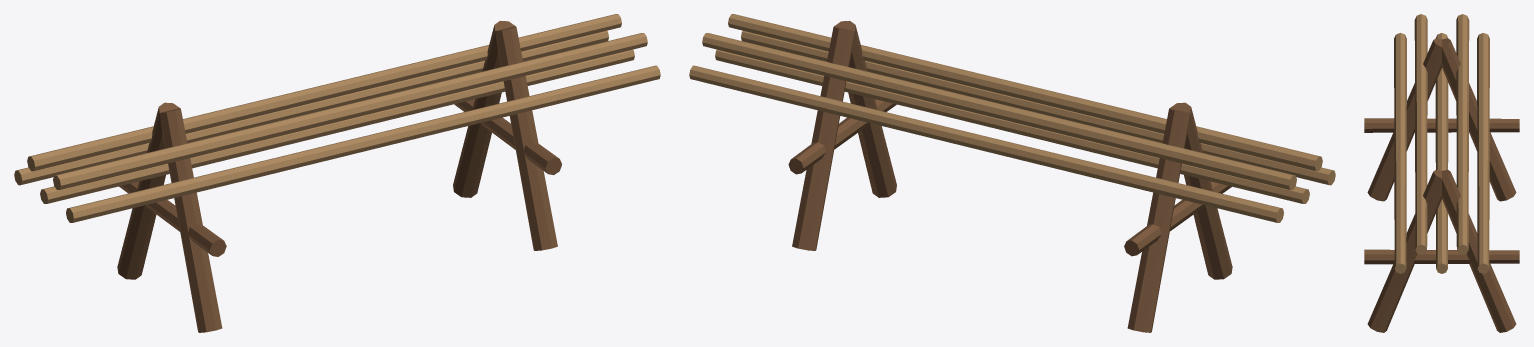
3 views of the same model, side by side, from view 1: azimuth 30°, elevation 25°; view 2: azimuth 150°, elevation 25°; view 3: azimuth 270°, elevation 25° (orthographic). The views are drawn at different scales.
Visible parts, largest first — view 1: WW-040 Straight-pole grading cradle batched; view 2: WW-040 Straight-pole grading cradle batched; view 3: WW-040 Straight-pole grading cradle batched.
Boxes of the visible parts, x1,y1,x2,y2 form: WW-040 Straight-pole grading cradle batched: (14, 14, 660, 332); WW-040 Straight-pole grading cradle batched: (689, 14, 1335, 332); WW-040 Straight-pole grading cradle batched: (1364, 14, 1519, 332).
Bounding box in the file's own units: 2.1 × 0.6774 × 0.6.
